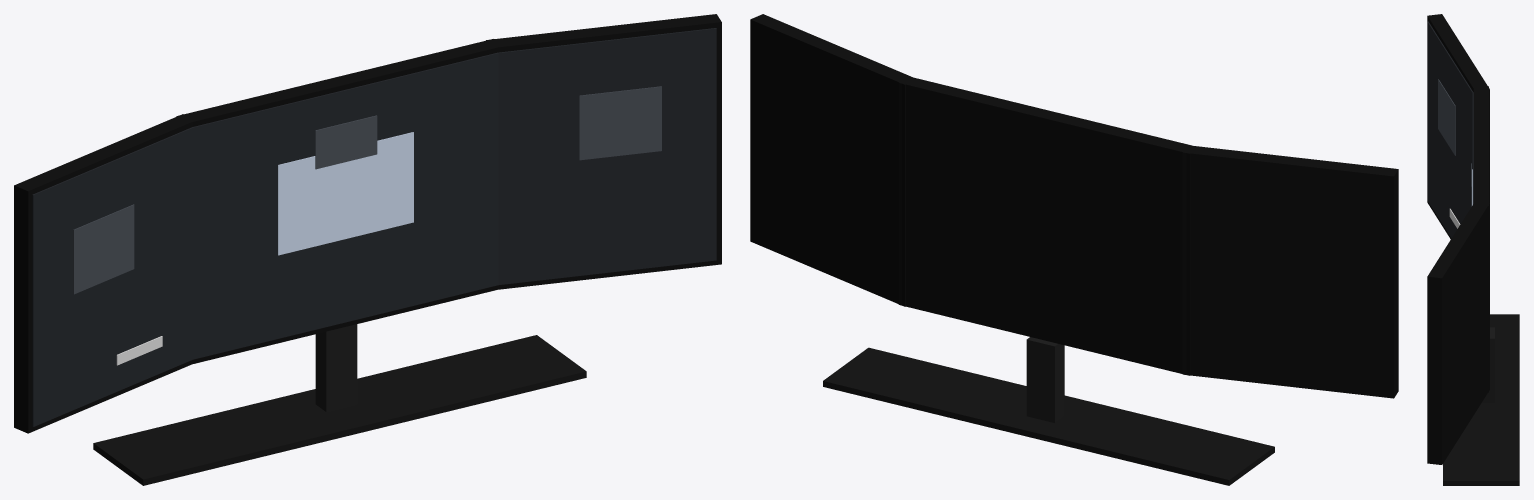
File: 50-monitor-samsung-odyssey-g9.glb
The picture shows the model from 3 angles, left to right: view 1: azimuth 30°, elevation 25°; view 2: azimuth 150°, elevation 25°; view 3: azimuth 270°, elevation 25°; orthographic projection. The views are drawn at different scales.
Size of the model in its own units: 1.14 by 0.516 by 0.1684.
